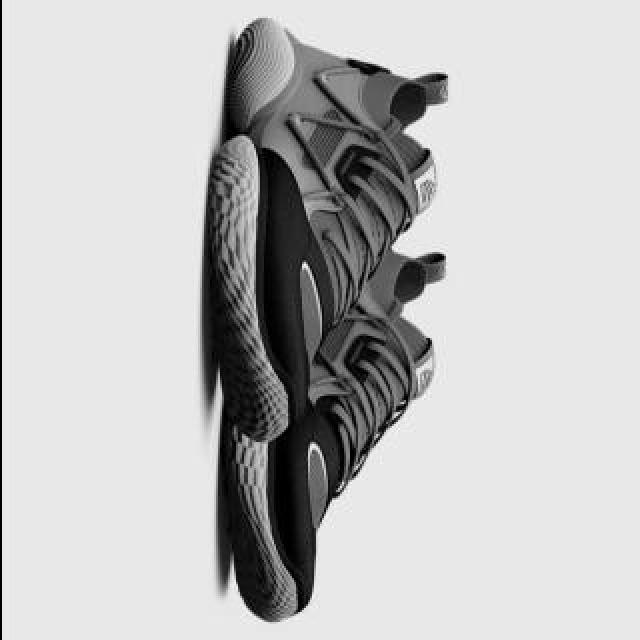shoe: (211, 15, 445, 447), (219, 217, 445, 625)
